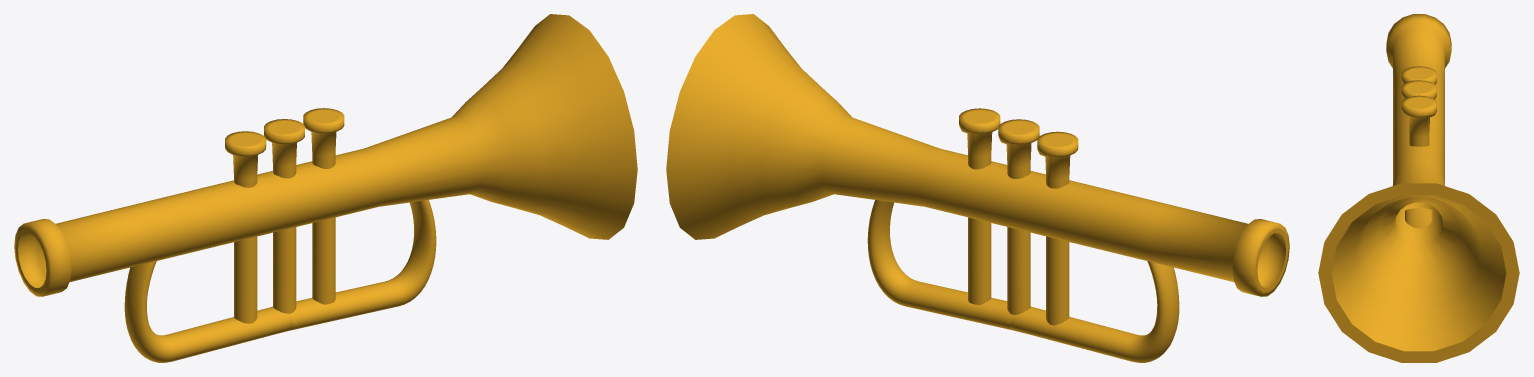
Rendered from trompette.FBX.
The picture shows the model from 3 angles, left to right: view 1: azimuth 30°, elevation 25°; view 2: azimuth 150°, elevation 25°; view 3: azimuth 270°, elevation 25°; orthographic projection. The views are drawn at different scales.
Visible parts, largest first — view 1: trompette; view 2: trompette; view 3: trompette.
Boxes of the visible parts, left/top/right/bottom form: trompette: left=14, top=14, right=637, bottom=362; trompette: left=666, top=14, right=1289, bottom=362; trompette: left=1318, top=14, right=1519, bottom=362.
Bounding box in the file's own units: 10.16 × 4.21 × 3.75.
